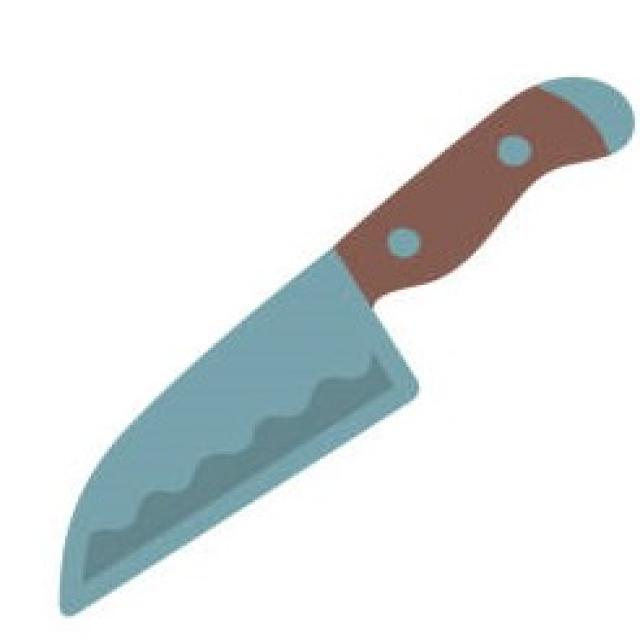knife: (46, 67, 636, 633)
